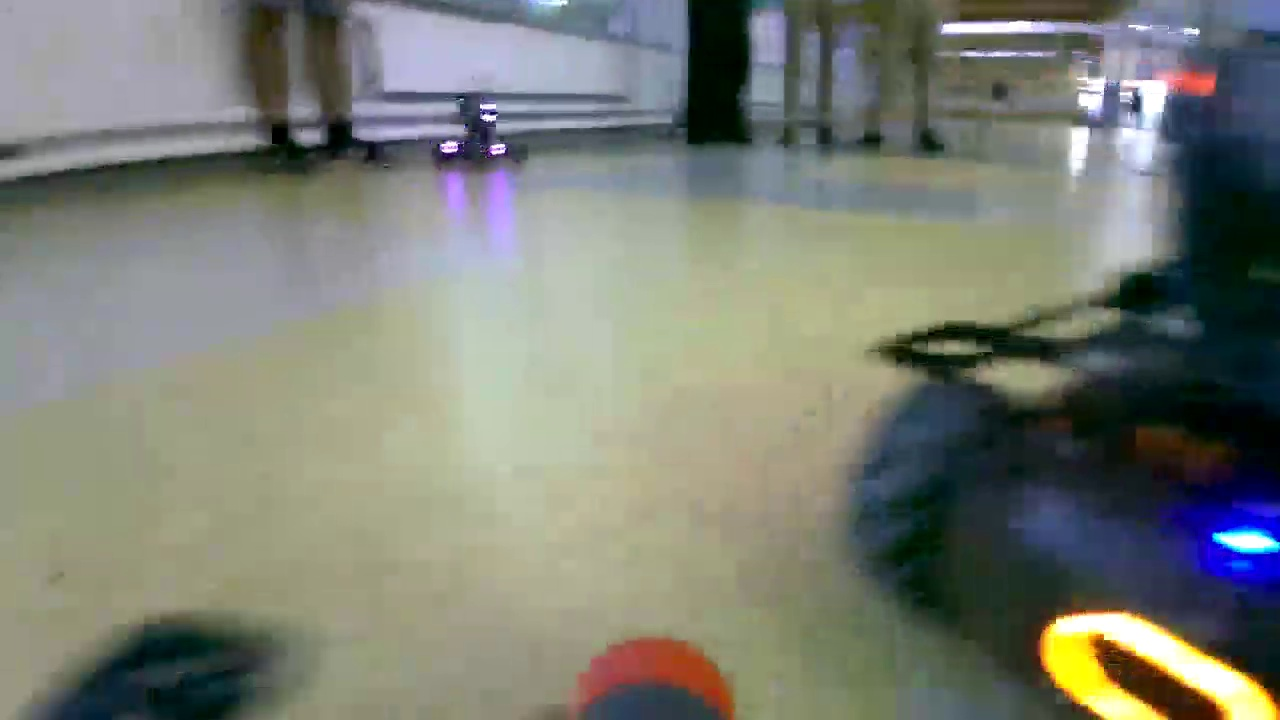robot: (841, 56, 1280, 720), (435, 93, 530, 167)
